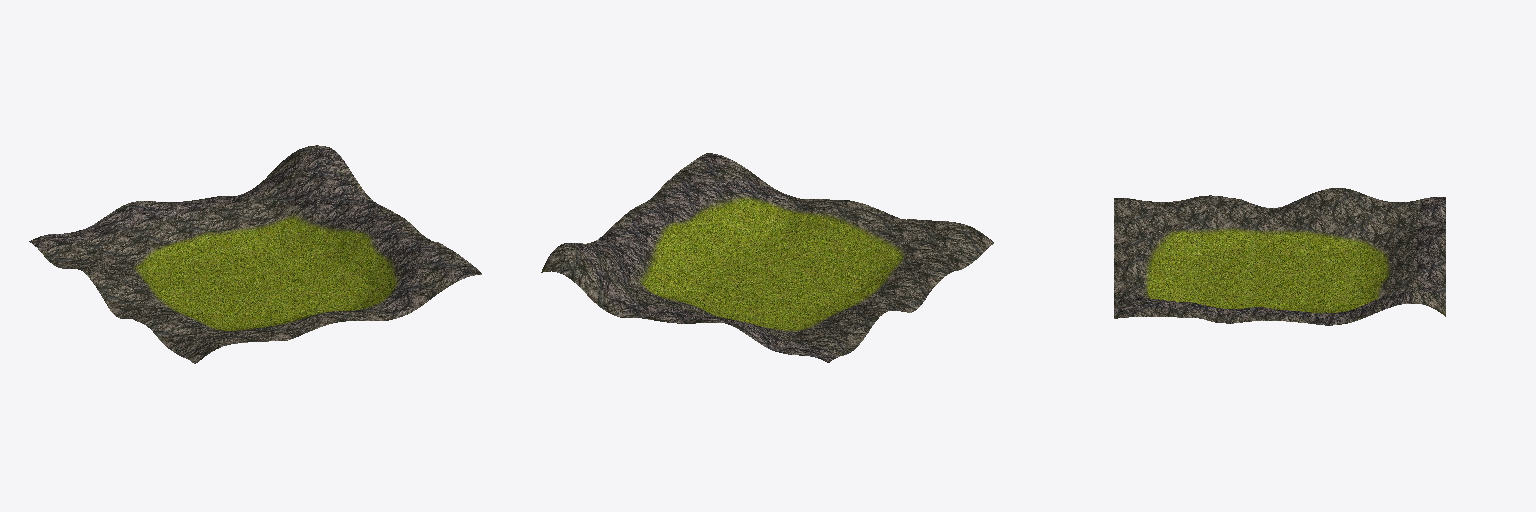
3 views of the same model, side by side, from view 1: azimuth 30°, elevation 25°; view 2: azimuth 150°, elevation 25°; view 3: azimuth 270°, elevation 25° (orthographic).
Parts seen in each view (by area): view 1: Plane; view 2: Plane; view 3: Plane.
Boxes of the visible parts, box(x1,y1,x2,y2) form: Plane: box(29, 145, 481, 363); Plane: box(541, 153, 993, 362); Plane: box(1114, 188, 1445, 325).
Bounding box in the file's own units: 16.01 × 2.89 × 16.02.
1 materials, 1 textured.